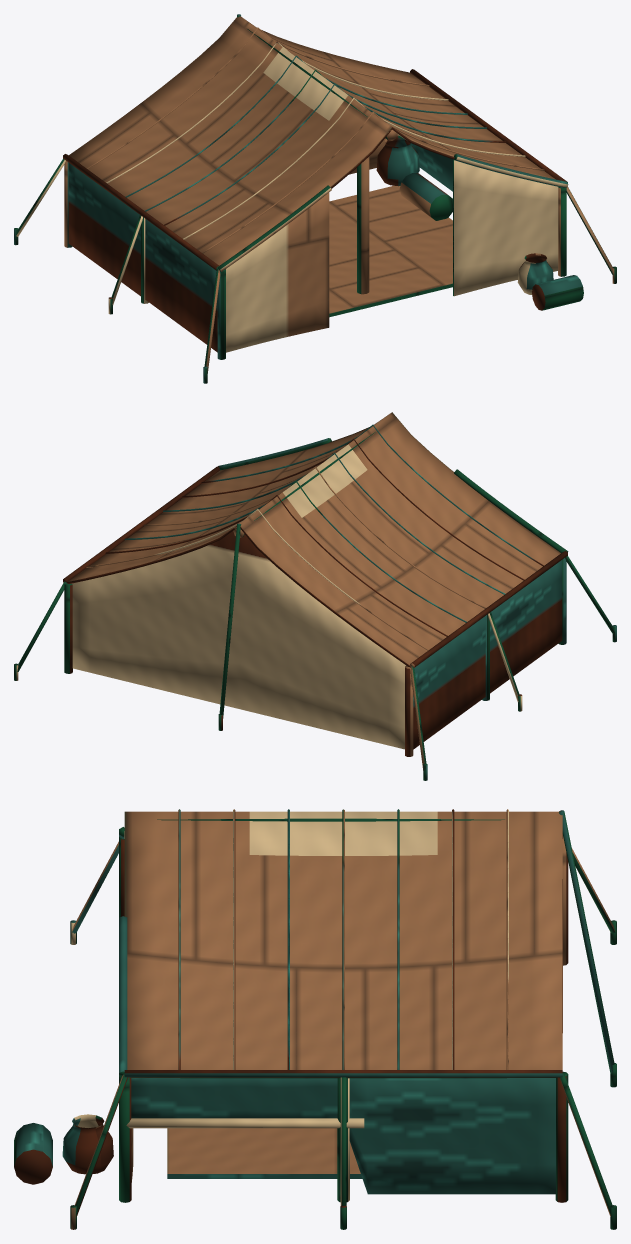
3 views of the same model, one above another, from view 1: azimuth 30°, elevation 25°; view 2: azimuth 150°, elevation 25°; view 3: azimuth 270°, elevation 25° (orthographic). The views are drawn at different scales.
Parts seen in each view (by area): view 1: garrison_part_0002, garrison_part_0003, garrison_part_0000, garrison_part_0004, garrison_part_0001; view 2: garrison_part_0002, garrison_part_0003, garrison_part_0001; view 3: garrison_part_0002, garrison_part_0003, garrison_part_0000, garrison_part_0001, garrison_part_0004.
Part boxes in pixels (x1,y1,x2,y2): garrison_part_0002: (16, 14, 613, 373); garrison_part_0003: (68, 134, 568, 352); garrison_part_0000: (14, 185, 616, 383); garrison_part_0004: (376, 135, 583, 310); garrison_part_0001: (64, 29, 566, 359); garrison_part_0002: (17, 412, 614, 770); garrison_part_0003: (71, 438, 568, 749); garrison_part_0001: (64, 432, 566, 756); garrison_part_0002: (72, 809, 615, 1216); garrison_part_0003: (119, 827, 555, 1194); garrison_part_0000: (70, 920, 616, 1229); garrison_part_0001: (119, 818, 568, 1202); garrison_part_0004: (14, 1114, 113, 1184).
Bounding box in the file's own units: 559 × 251 × 496.
